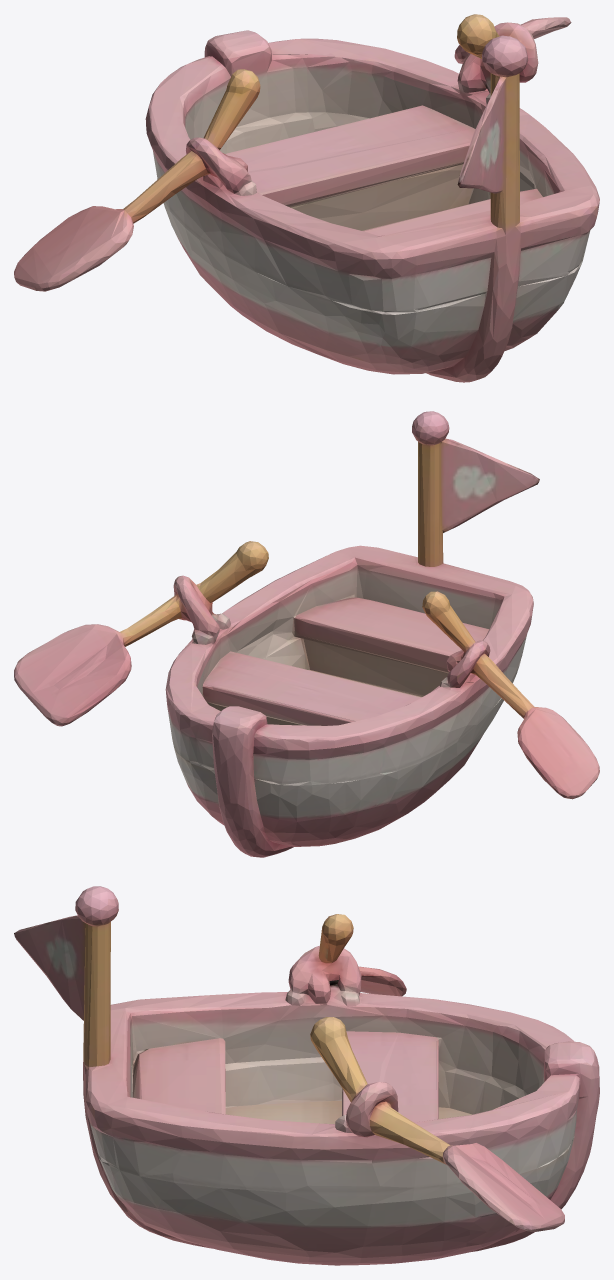
Rendered from boat.glb.
3 renders of one model, top to bottom at view 1: azimuth 30°, elevation 25°; view 2: azimuth 150°, elevation 25°; view 3: azimuth 270°, elevation 25°, orthographic. The views are drawn at different scales.
Visible parts, largest first — view 1: geometry_0; view 2: geometry_0; view 3: geometry_0.
Boxes of the visible parts, x1,y1,x2,y2 form: geometry_0: (14,14,599,382); geometry_0: (14,411,599,857); geometry_0: (14,886,599,1265).
Size of the model in its own units: 0.9995 by 0.6051 by 0.8626.
Materials: 1 (1 with a texture image).
